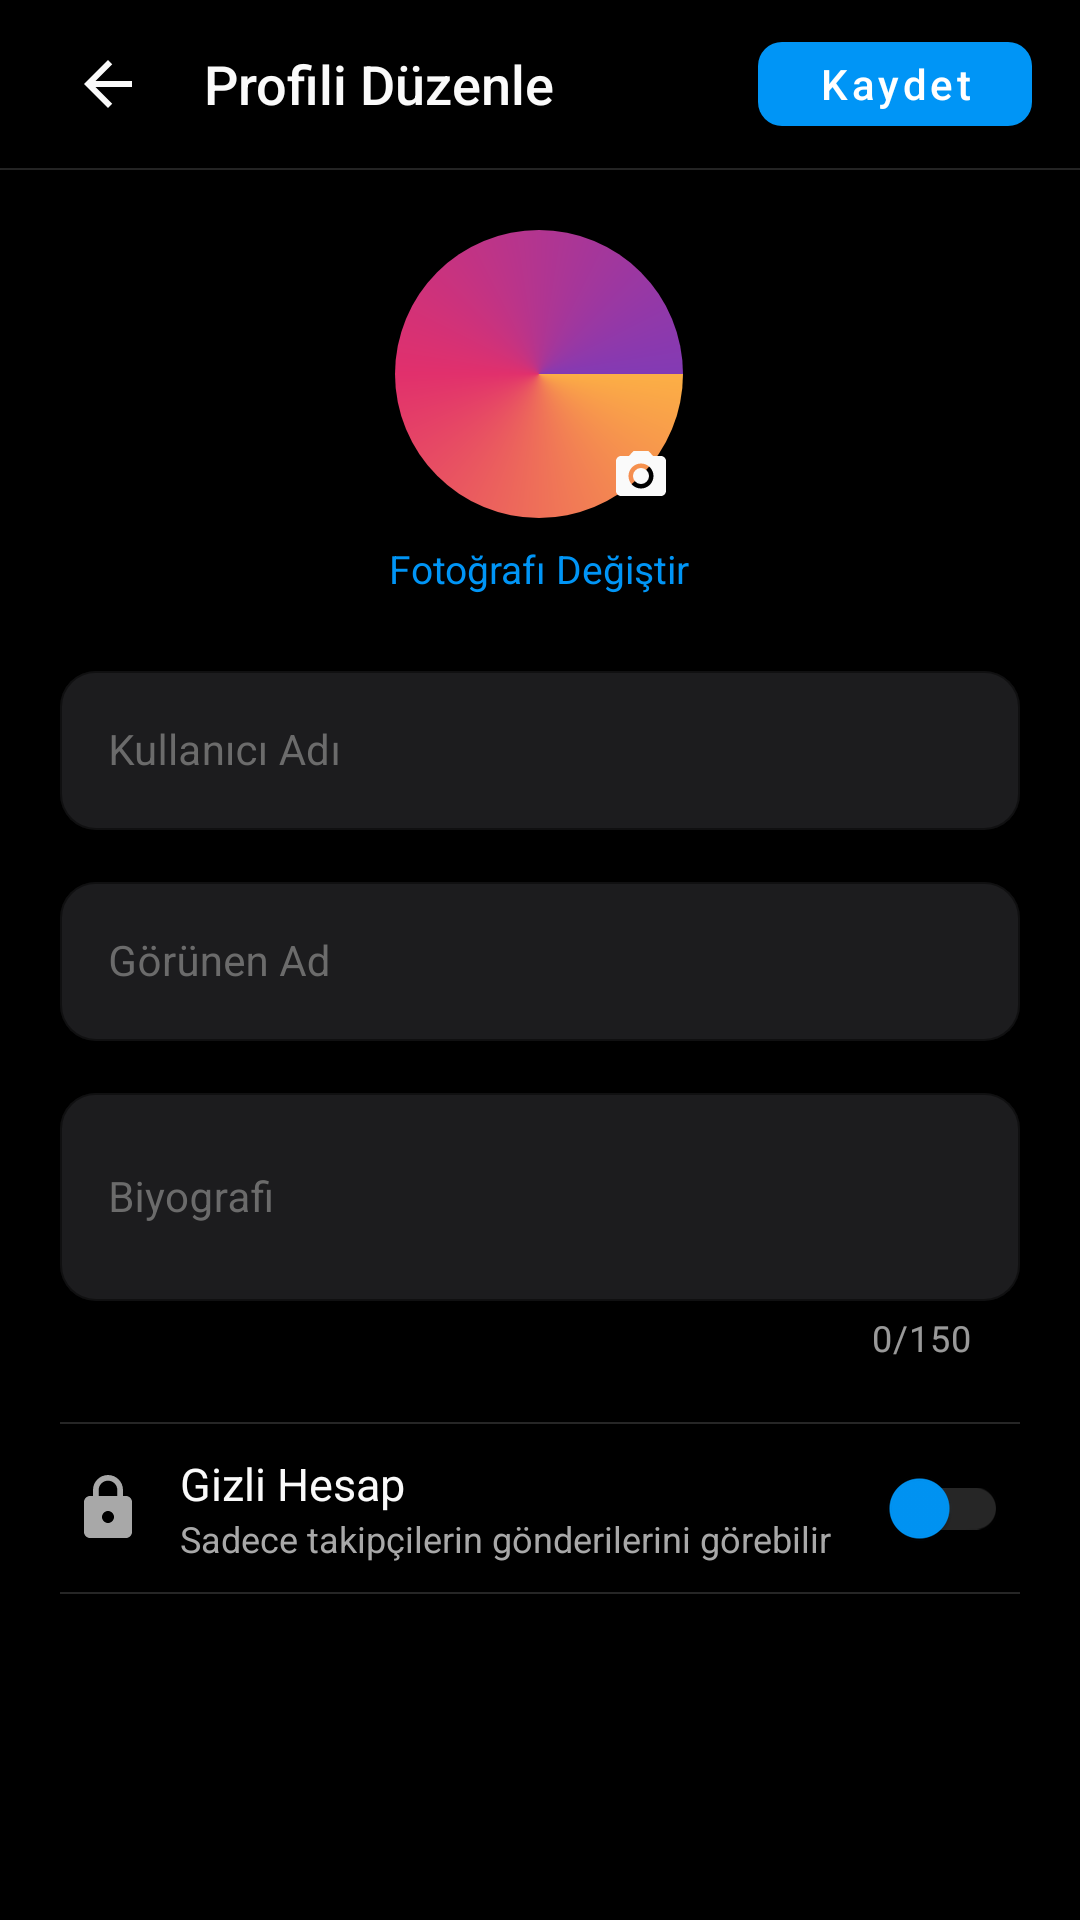

Screen size 1080x1920. Icon name, then its box in pixels as [x1,y1,x2,y2]:
Geri: [84,60,132,108]
lock: [84,1475,132,1538]
